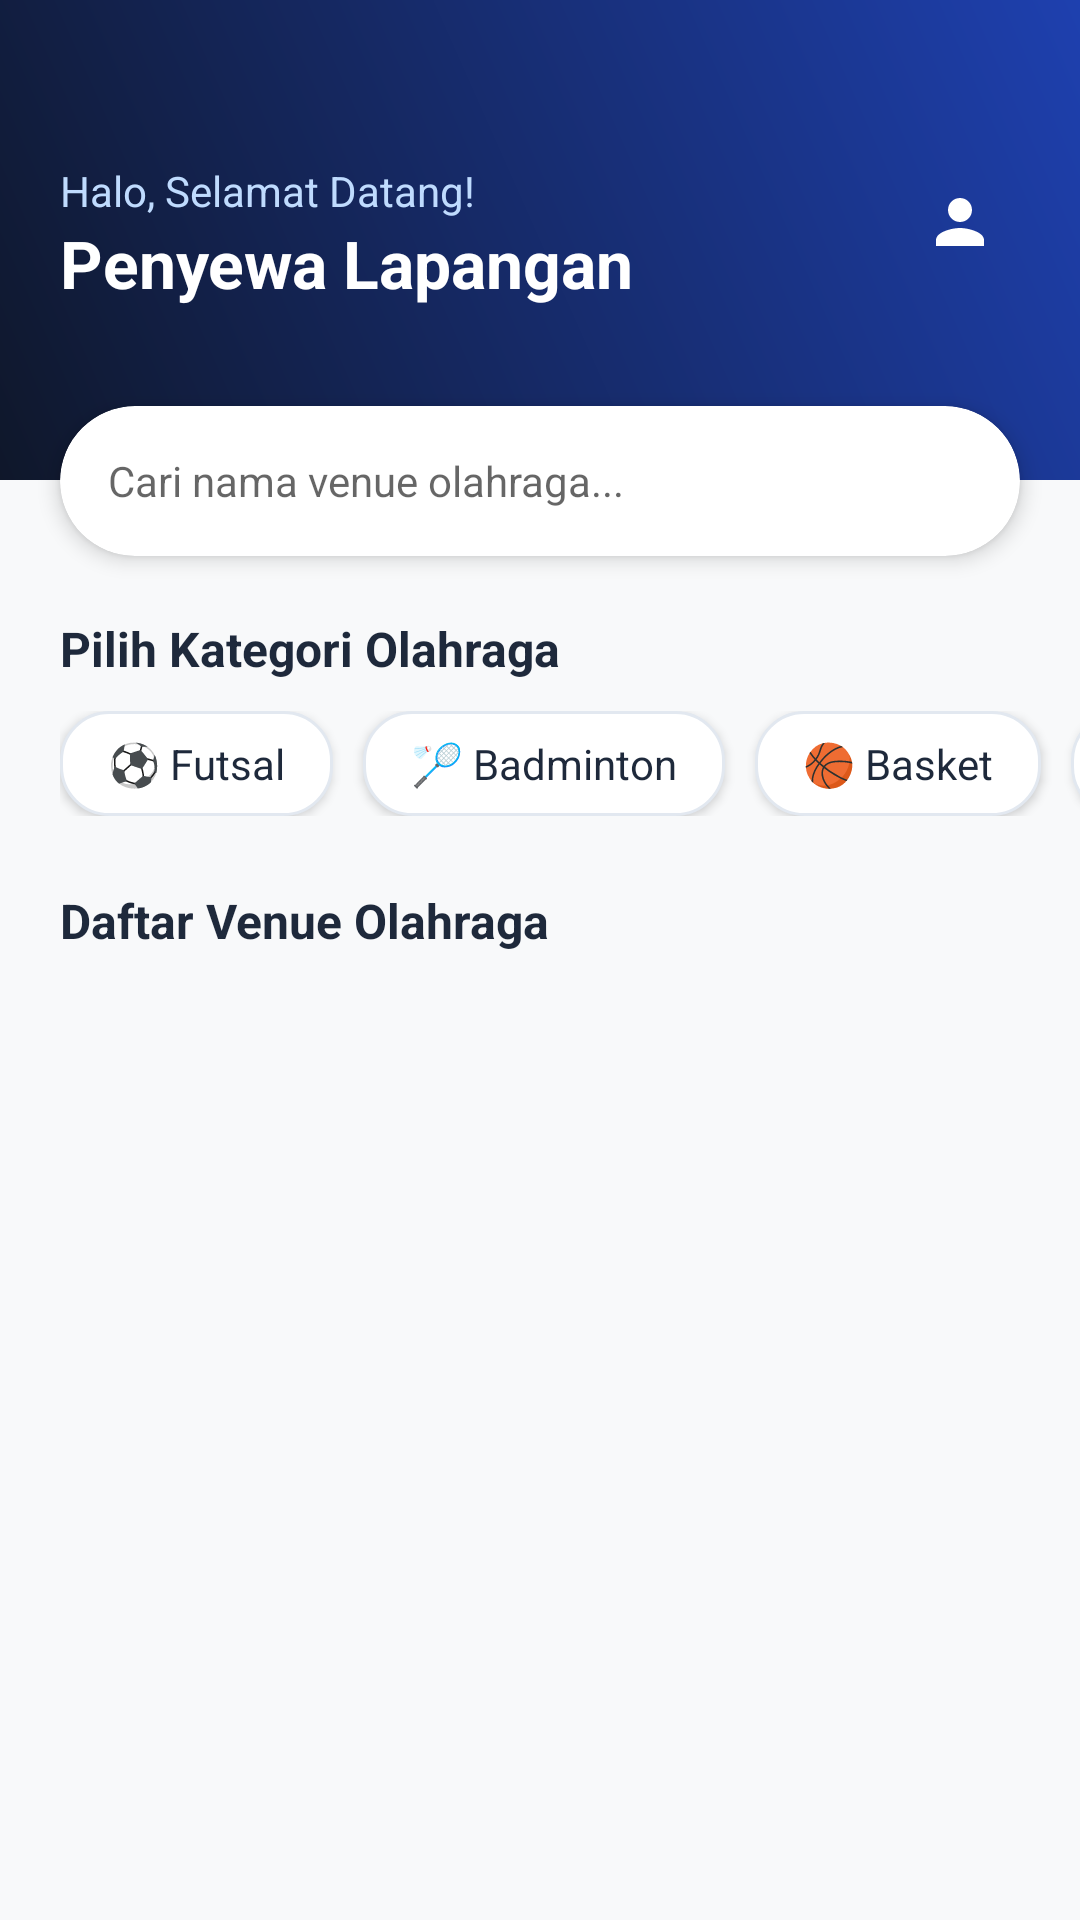

Screen size 1080 × 1920. Icon name, then its box in pixels as (x1,y1,x2,y2):
Profil: (936,198,984,246)
